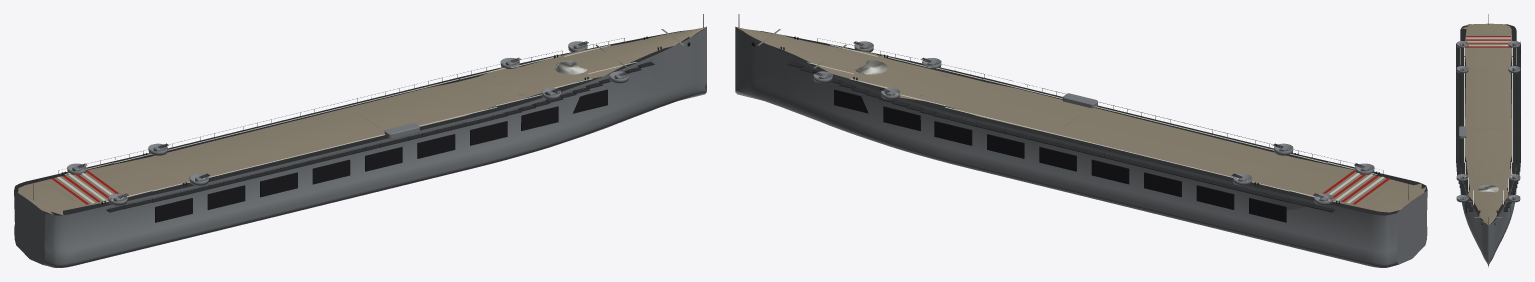
The model's file is chitose_lod.glb.
3 renders of one model, left to right at view 1: azimuth 30°, elevation 25°; view 2: azimuth 150°, elevation 25°; view 3: azimuth 270°, elevation 25°, orthographic. The views are drawn at different scales.
Visible parts, largest first — view 1: chitose_lod; view 2: chitose_lod; view 3: chitose_lod.
Part boxes in pixels (<box>): chitose_lod: <box>14,14,706,267</box>; chitose_lod: <box>735,14,1427,267</box>; chitose_lod: <box>1456,14,1520,267</box>.
Bounding box in the file's own units: 193 × 21.94 × 25.38.
